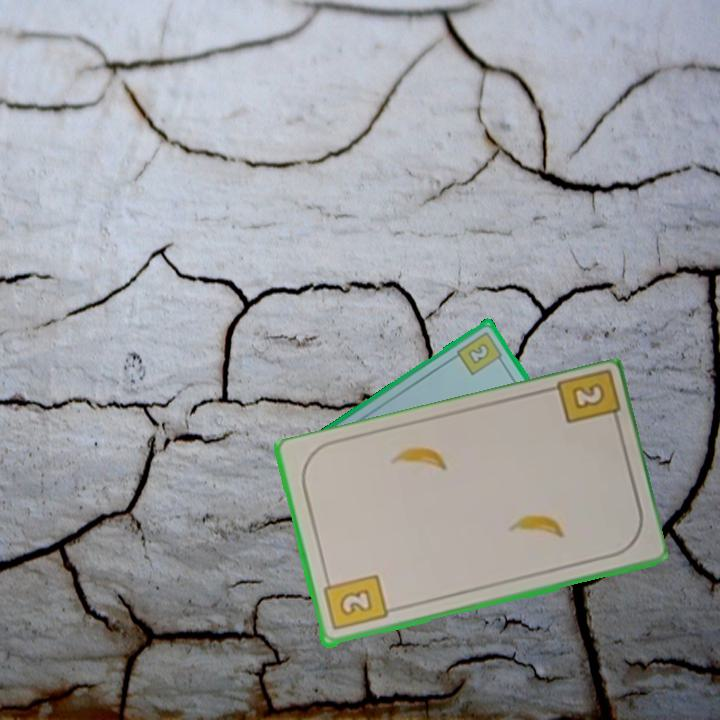2b: (550, 369, 624, 434), (320, 571, 390, 634), (453, 328, 506, 378)
